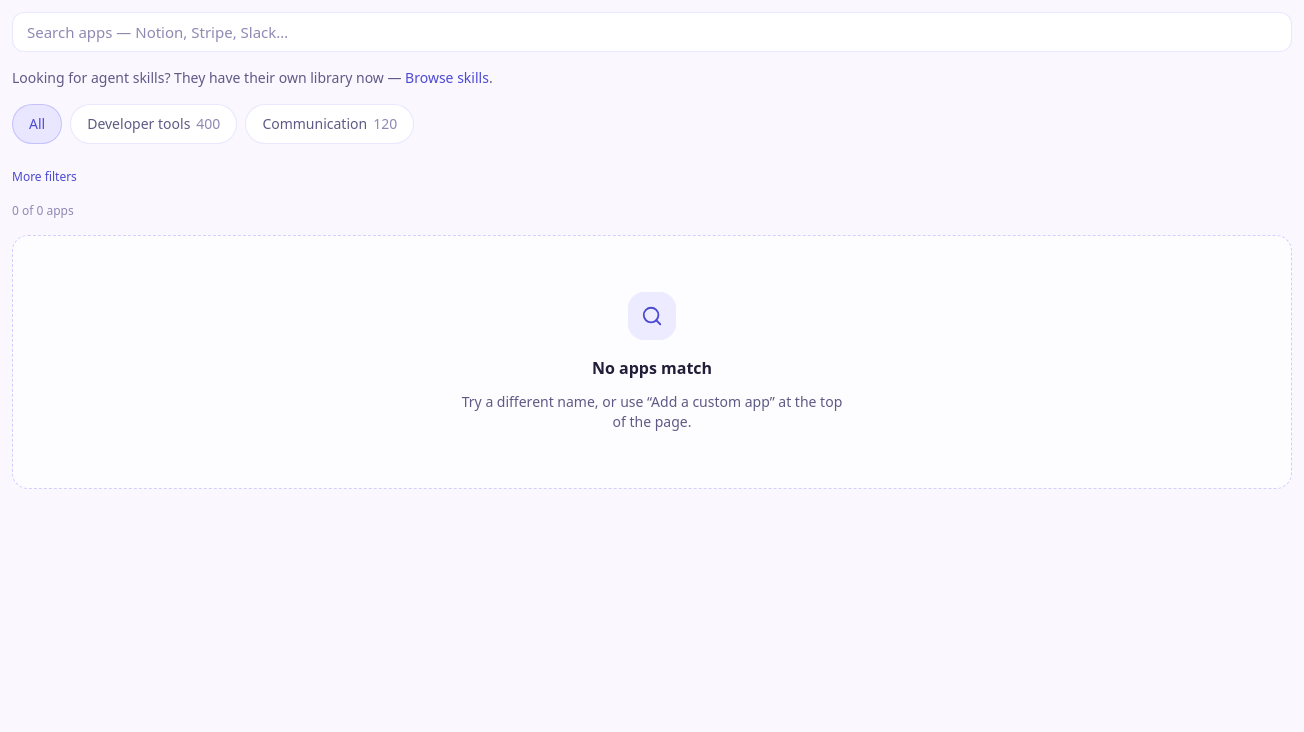
Test case: AppLibrary in catalog mode › keeps trust behind More filters, and transport and sign-in behind Advanced
Expected: the element "Where it came from" is not shown
Click the button "More filters" at (44, 177), box [12,169,77,185]
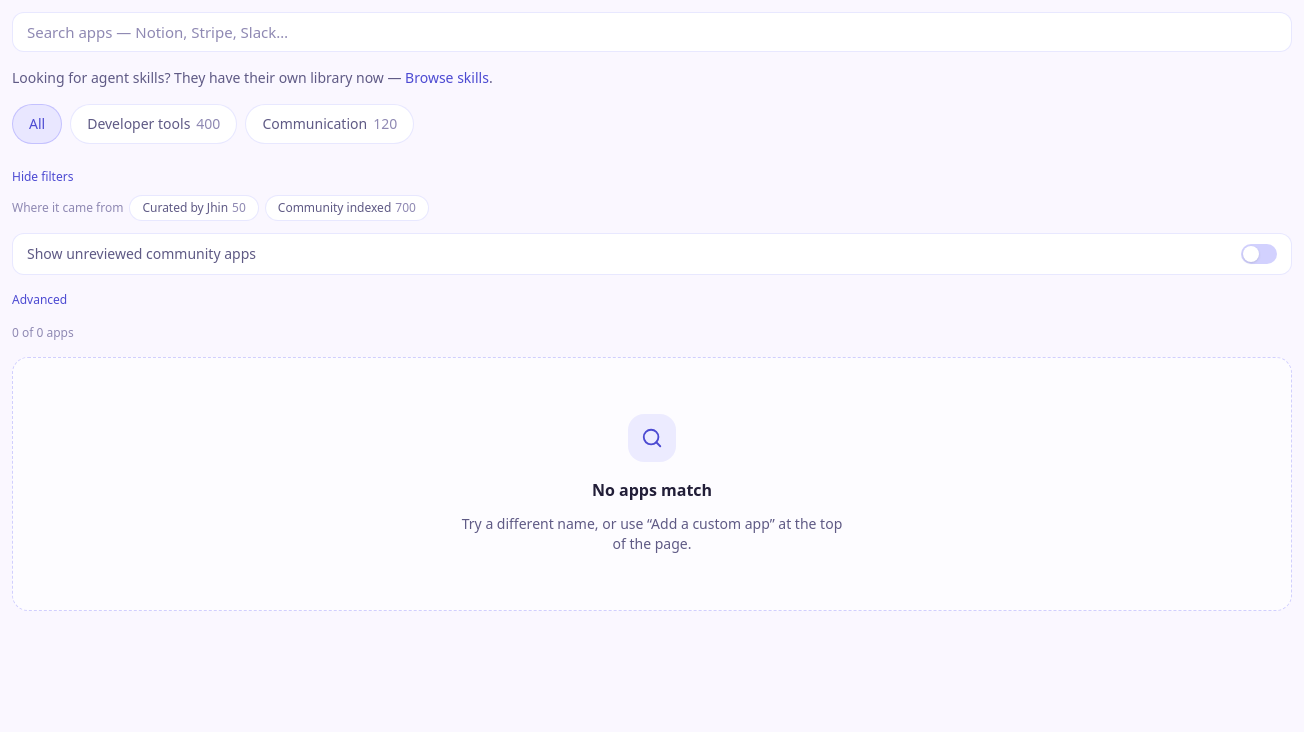
Expected: the element "Sign-in" is not shown
Result: the element "Where it came from" is shown at [12,194,429,220]
Click the button "Advanced" at (40, 300), box [12,292,67,308]
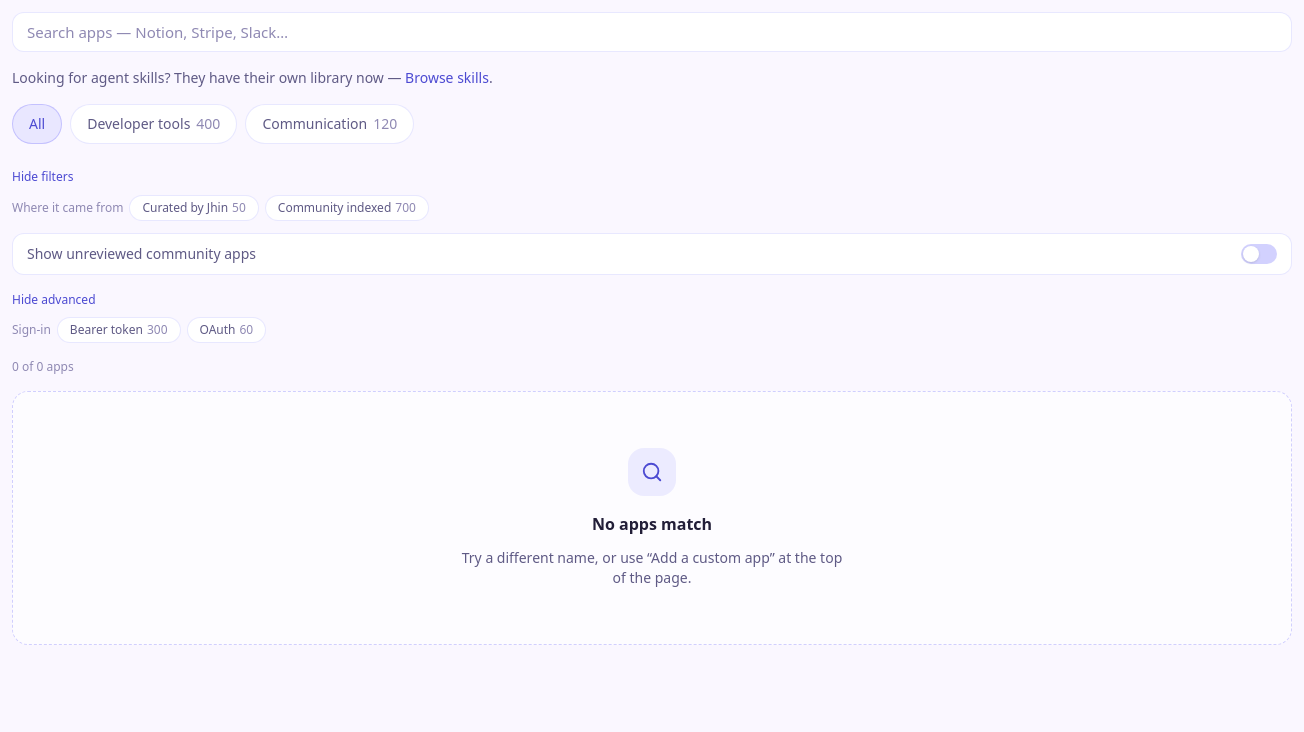
Result: the element "Sign-in" is shown at [12,317,266,343]
